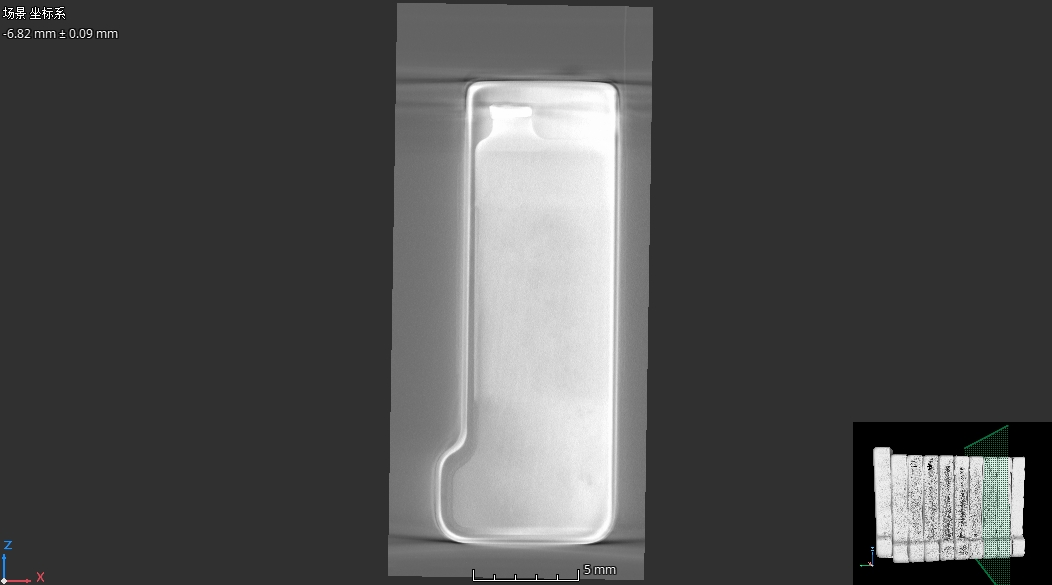dark: (576, 473, 598, 492)
